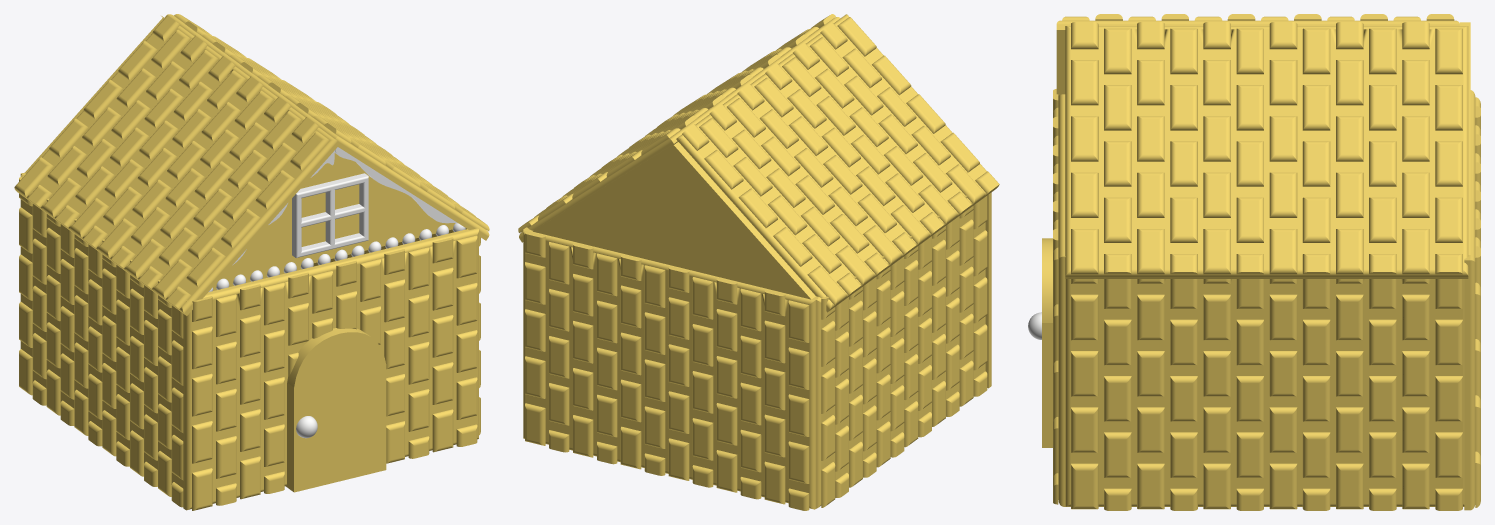
Rendered from gingerbread.glb.
The picture shows the model from 3 angles, left to right: view 1: azimuth 30°, elevation 25°; view 2: azimuth 150°, elevation 25°; view 3: azimuth 270°, elevation 25°; orthographic projection. The views are drawn at different scales.
Visible parts, largest first — view 1: Body15, Body18, Body1, Body20, Body17, Body21, Body40, Body19; view 2: Body14, Body18, Body1, Body19, Body17, Body15; view 3: Body17, Body16, Body15, Body14, Body18, Body19.
Part boxes in pixels (x1=…): Body15: x1=183, y1=228, x2=478, y2=510; Body18: x1=14, y1=15, x2=340, y2=315; Body1: x1=19, y1=173, x2=183, y2=507; Body20: x1=213, y1=153, x2=455, y2=287; Body17: x1=165, y1=14, x2=489, y2=240; Body21: x1=292, y1=173, x2=368, y2=257; Body40: x1=232, y1=147, x2=457, y2=265; Body19: x1=25, y1=16, x2=164, y2=173; Body14: x1=523, y1=227, x2=817, y2=510; Body18: x1=676, y1=14, x2=999, y2=312; Body1: x1=813, y1=195, x2=987, y2=508; Body19: x1=533, y1=139, x2=815, y2=299; Body17: x1=518, y1=14, x2=840, y2=242; Body15: x1=985, y1=192, x2=991, y2=388; Body17: x1=1065, y1=22, x2=1468, y2=278; Body16: x1=1065, y1=279, x2=1464, y2=510; Body15: x1=1042, y1=89, x2=1065, y2=506; Body14: x1=1464, y1=90, x2=1480, y2=510; Body18: x1=1056, y1=14, x2=1459, y2=95; Body19: x1=1459, y1=22, x2=1470, y2=254.
Size of the model in its own units: 1.88 by 1.92 by 1.94.
